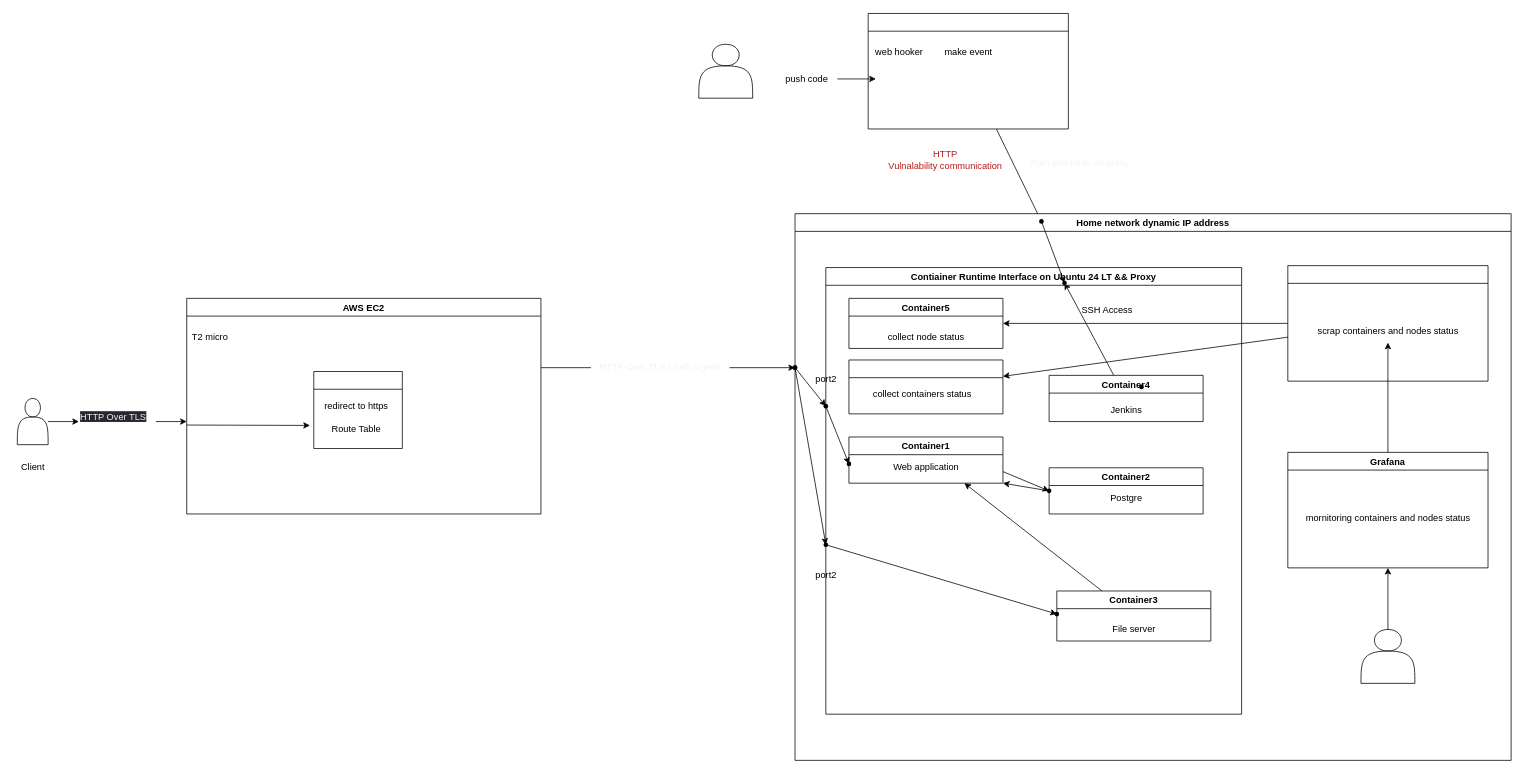
The diagram is 1525 pixels wide and 774 high, and some of its shapes have lost their labels. The box of each missing label's shape, as (x1, y1, x2, y2) in pixels:
Container6: (848, 359, 1003, 414)
Git hub hooker/ Code Management: (867, 13, 1068, 129)
NginX Proxy: (313, 371, 402, 449)
Prometheous: (1287, 265, 1488, 381)
